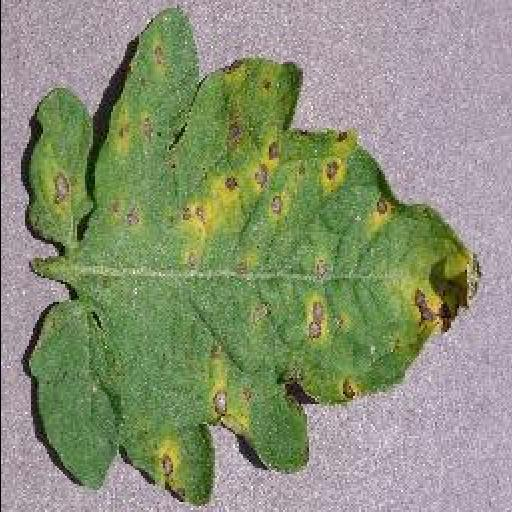disease_tomato: (24, 12, 484, 506)
